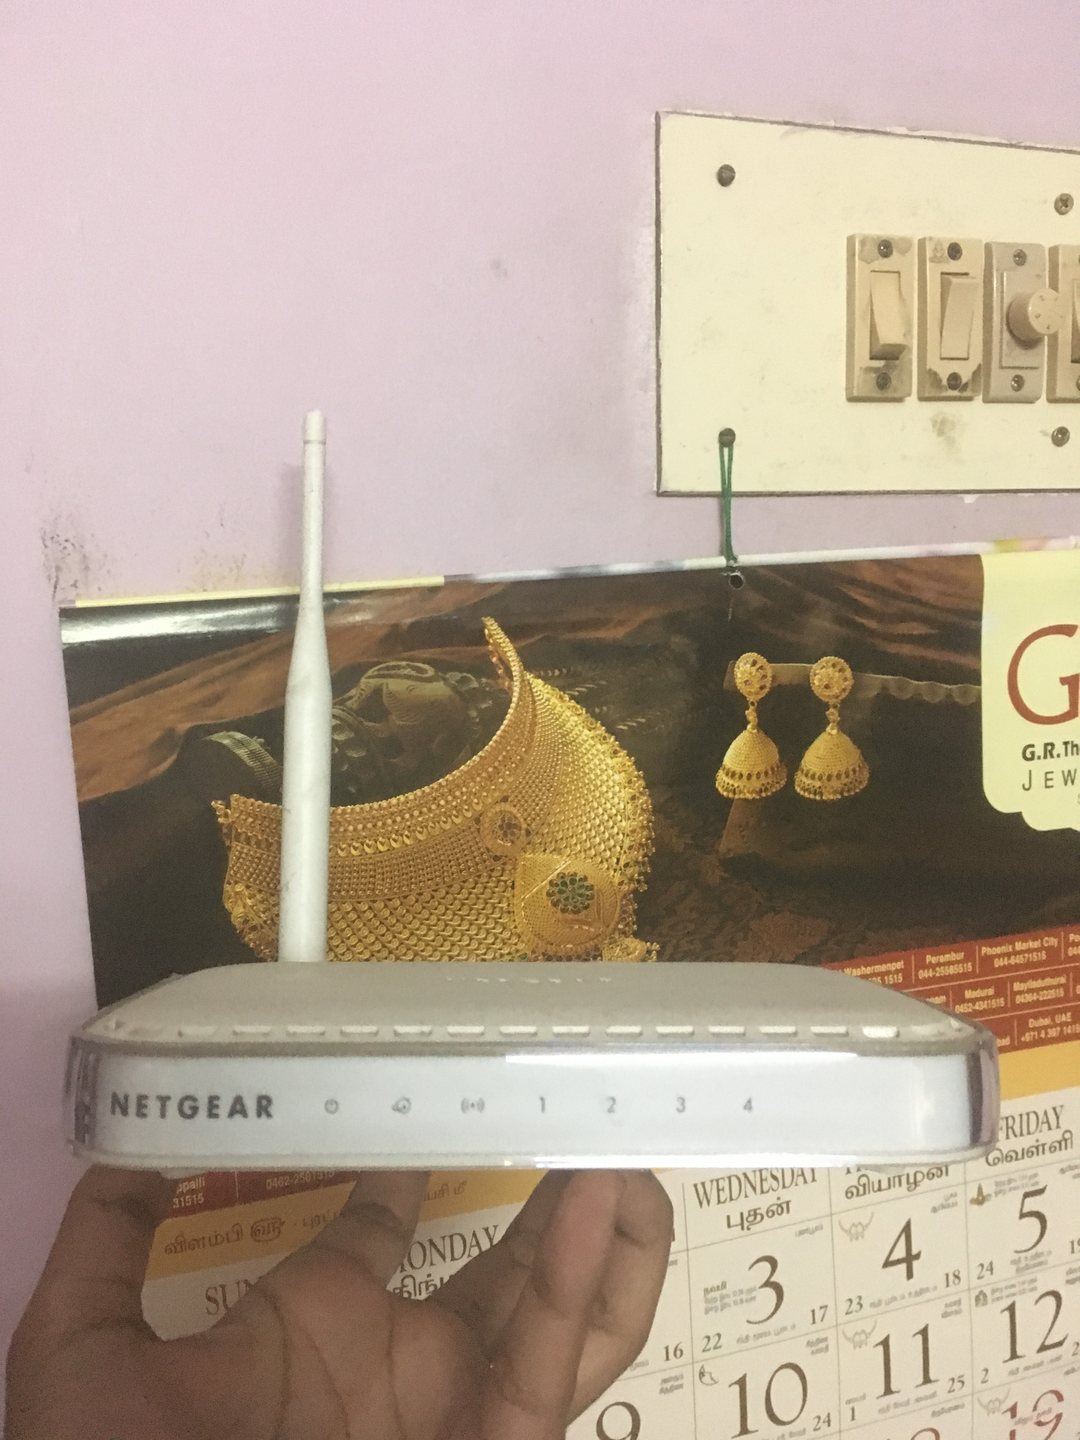NETGEAR: (99, 1083, 278, 1128)
modem: (60, 1013, 992, 1172)
